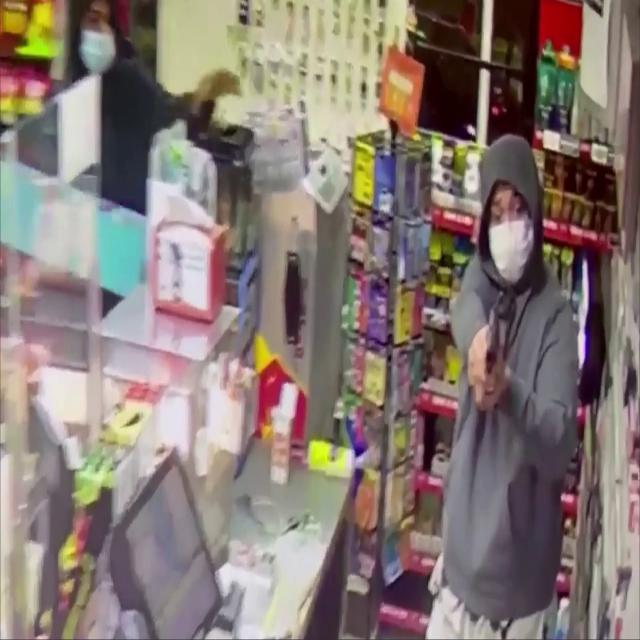Gun: (484, 306, 502, 396)
